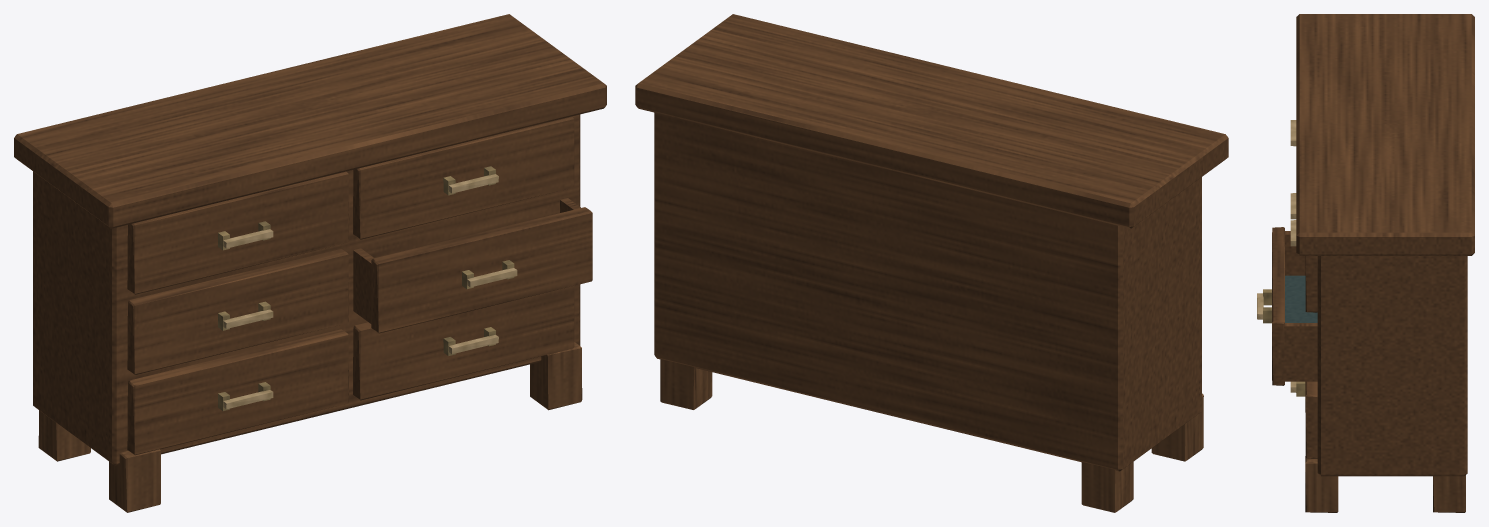
Rendered from PartsCabinet_LOD1.fbx.
3 renders of one model, left to right at view 1: azimuth 30°, elevation 25°; view 2: azimuth 150°, elevation 25°; view 3: azimuth 270°, elevation 25°, orthographic. The views are drawn at different scales.
Visible parts, largest first — view 1: PartsCabinet.001; view 2: PartsCabinet.001; view 3: PartsCabinet.001.
Part boxes in pixels (left/top/right/bottom): PartsCabinet.001: left=14, top=14, right=606, bottom=512; PartsCabinet.001: left=635, top=14, right=1228, bottom=512; PartsCabinet.001: left=1257, top=14, right=1474, bottom=512.
Size of the model in its own units: 1.33 by 0.8095 by 0.5528.
Materials: 1 (1 with a texture image).
